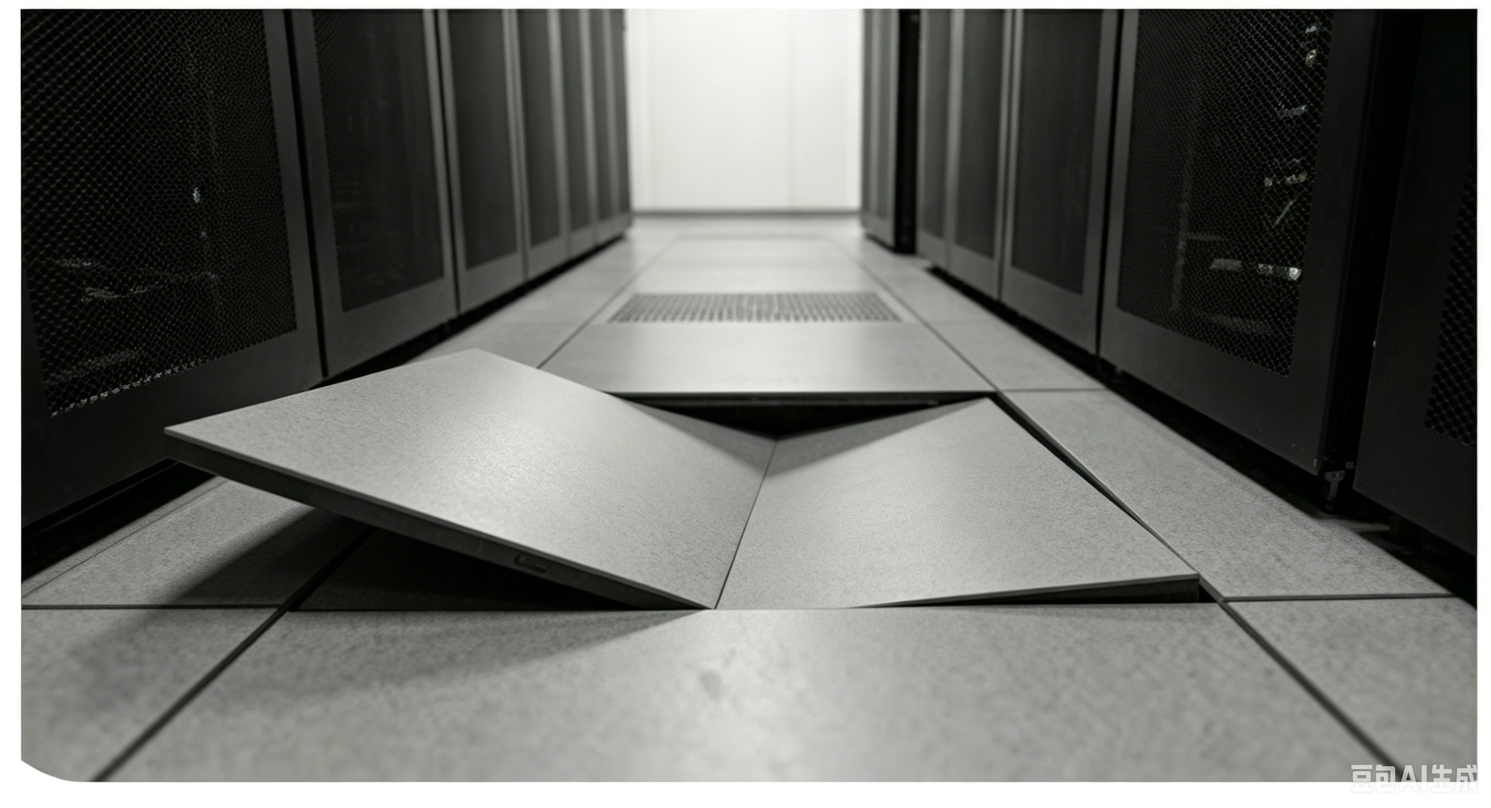floor_defect: (154, 347, 1209, 632)
